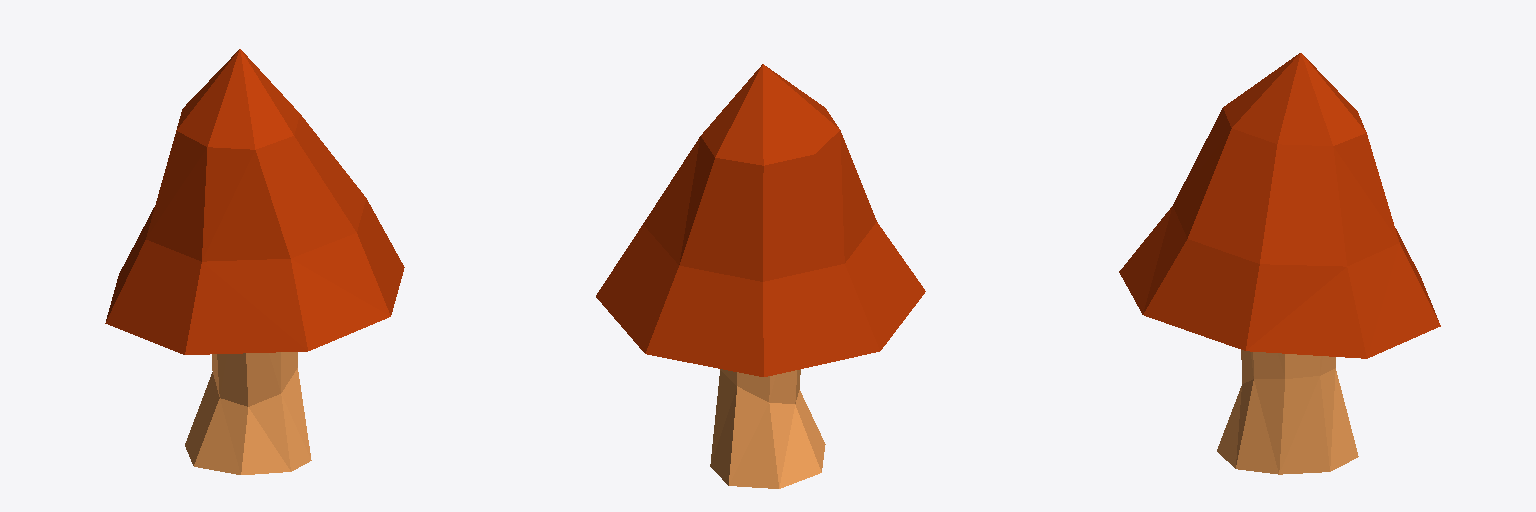
Rendered from Mushroom.obj.
3 views of the same model, side by side, from view 1: azimuth 30°, elevation 25°; view 2: azimuth 150°, elevation 25°; view 3: azimuth 270°, elevation 25° (orthographic).
Parts seen in each view (by area): view 1: Mushroom2; view 2: Mushroom2; view 3: Mushroom2.
Part boxes in pixels (x1,y1,x2,y2): Mushroom2: (105,49,404,474); Mushroom2: (596,64,925,488); Mushroom2: (1119,53,1440,474).
Bounding box in the file's own units: 0.5566 × 0.8134 × 0.5899.